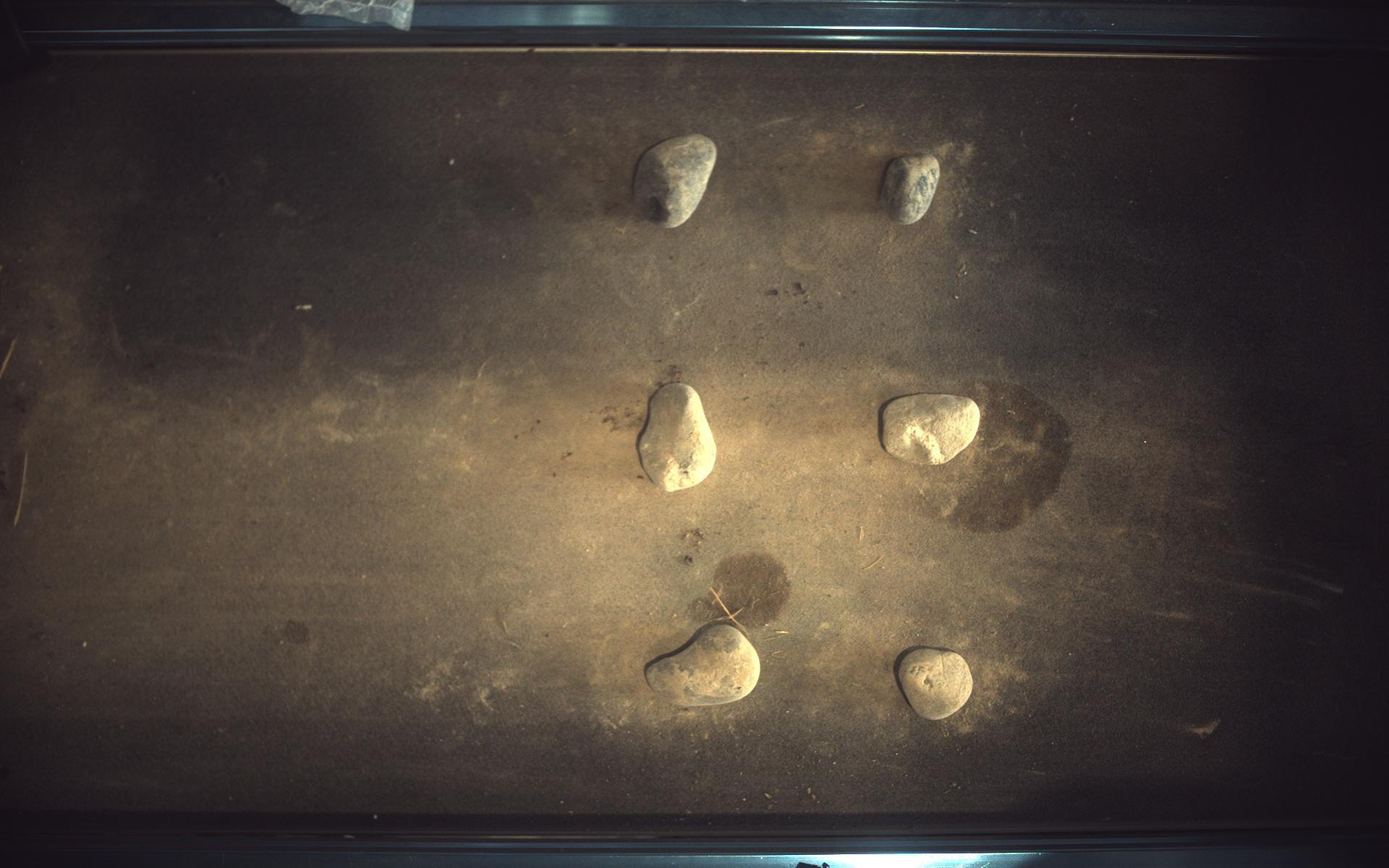stone: (646, 622, 762, 707), (638, 383, 718, 492), (634, 133, 718, 228), (884, 393, 982, 465), (899, 648, 974, 721), (883, 154, 942, 224)
